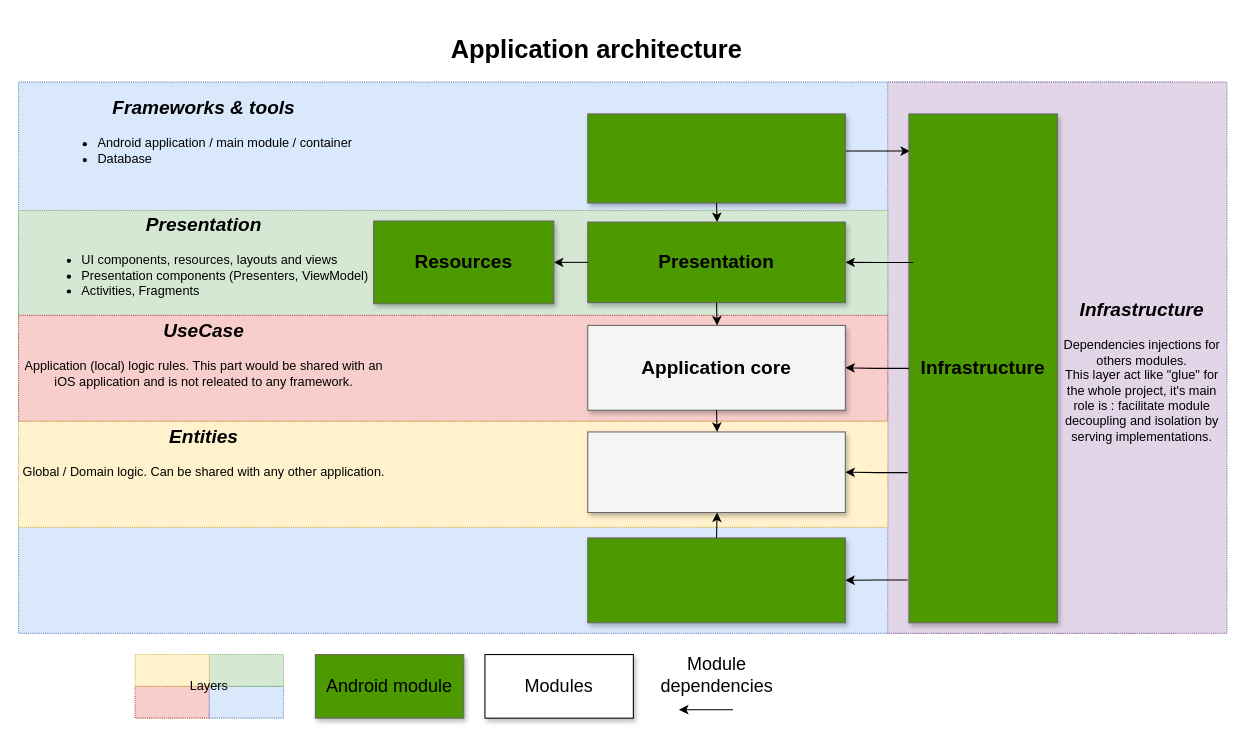
The diagram is 1245 pixels wide and 744 high, and some of its shapes have lost their labels. The centre of each missing label's shape, as x and y in pixels:
"Android Application" goes at (717,159).
"Core" goes at (717,473).
"Datasource" goes at (717,581).
